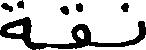X: (0, 0, 28, 49), (61, 0, 88, 49), (122, 0, 145, 49)
